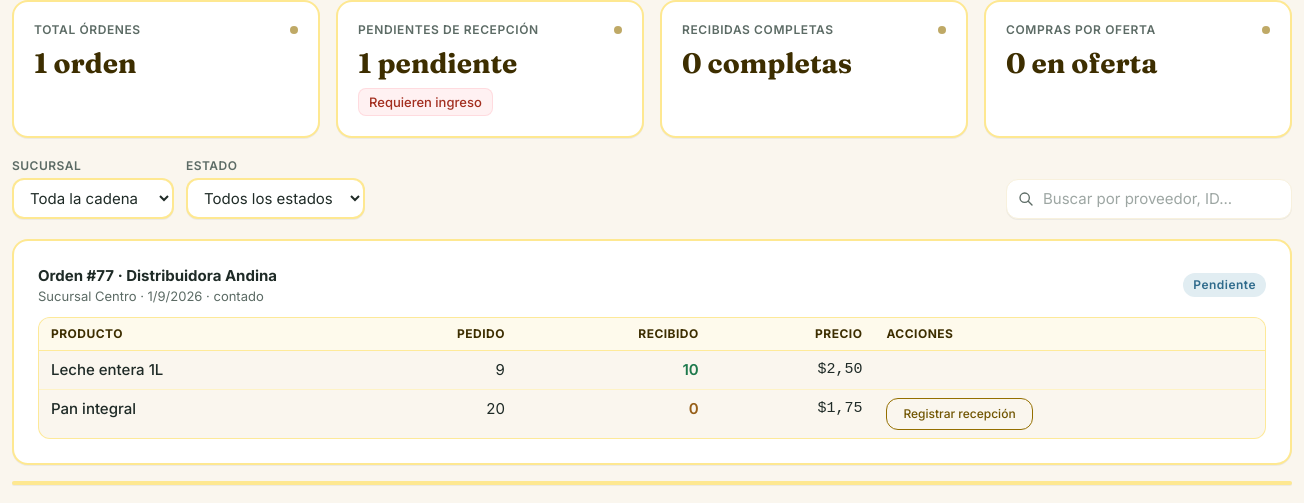
Test: Ordenes › registra una recepción real y refleja la orden actualizada en la lista sin volver a pedirla al backend
Expected: the text "Pan integral" is shown, [39,390,352,438]
Click the button "Registrar recepción" at (960, 414), box [886,398,1033,430]
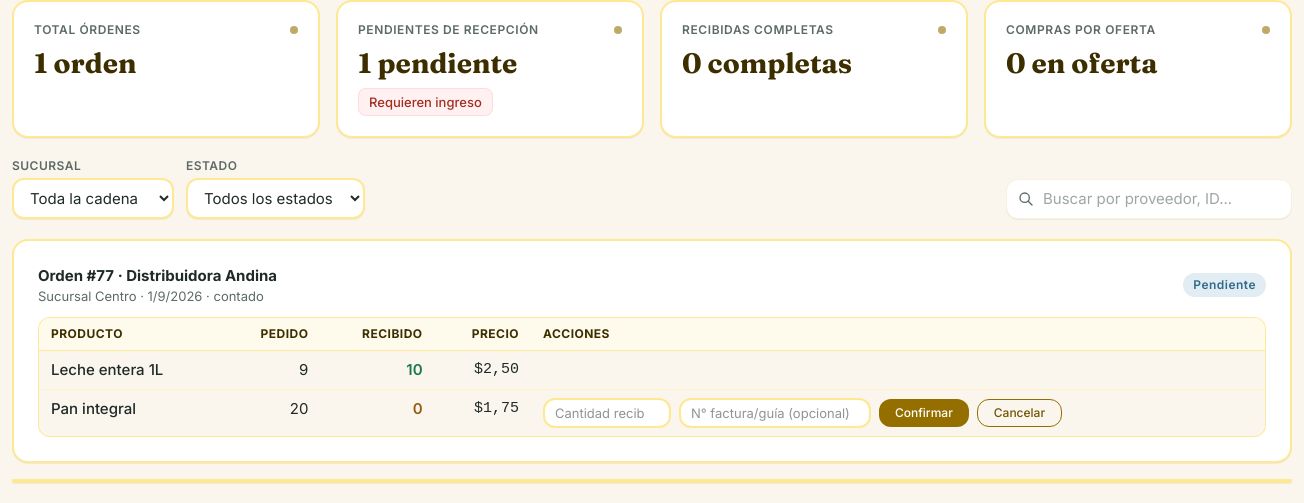
Type "20" into the number field with placeholder "Cantidad recibida" at (607, 413), box [543,398,671,428]
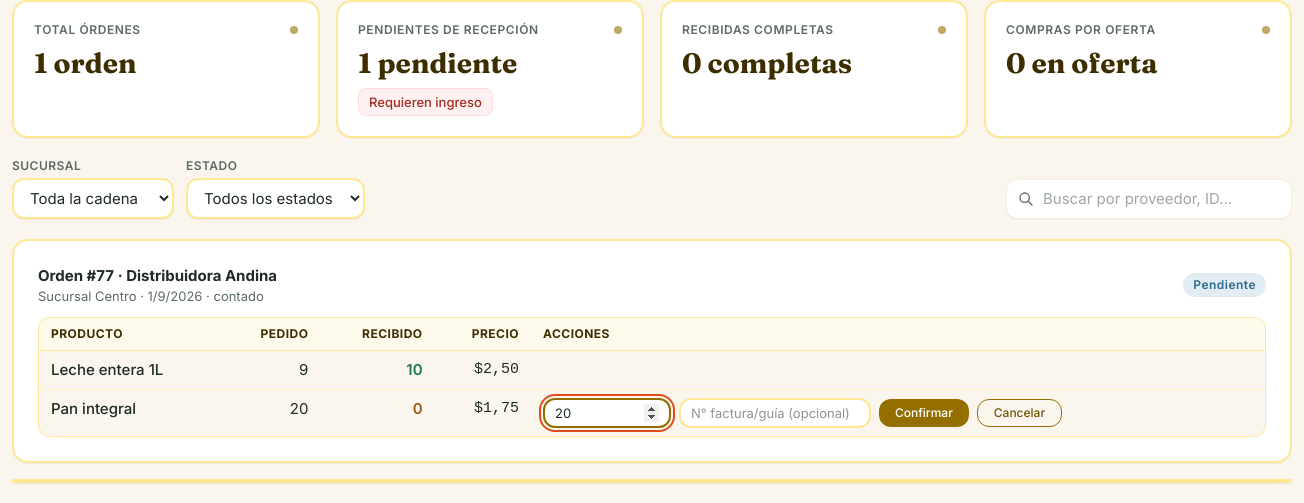
Type "FAC-001" into the field with placeholder "N° factura/guía (opcional)" at (775, 413), box [679,398,871,428]
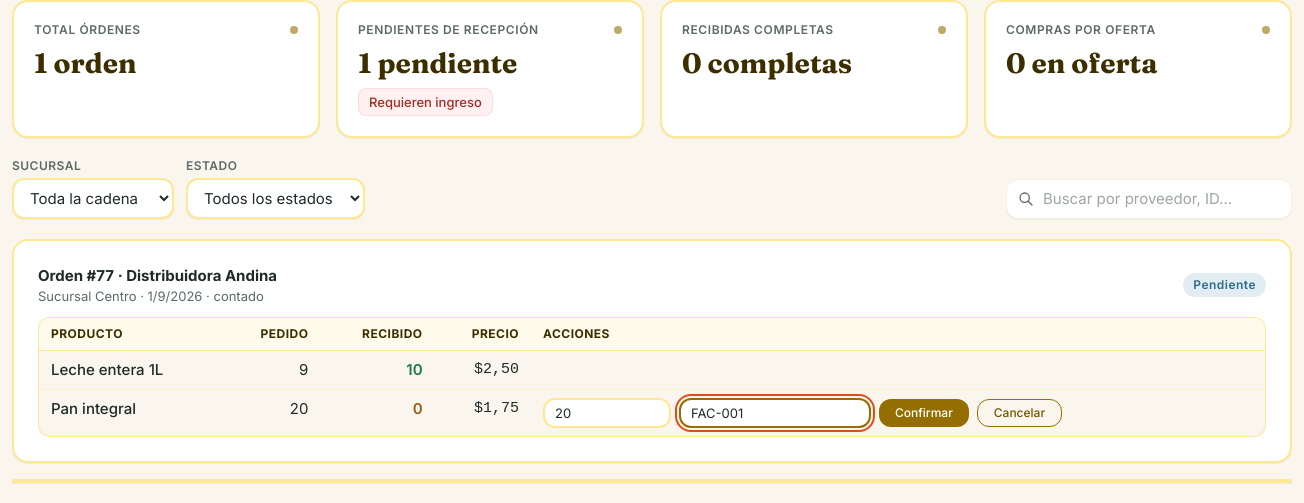
Click the button "Confirmar" at (924, 413), box [879,399,969,427]
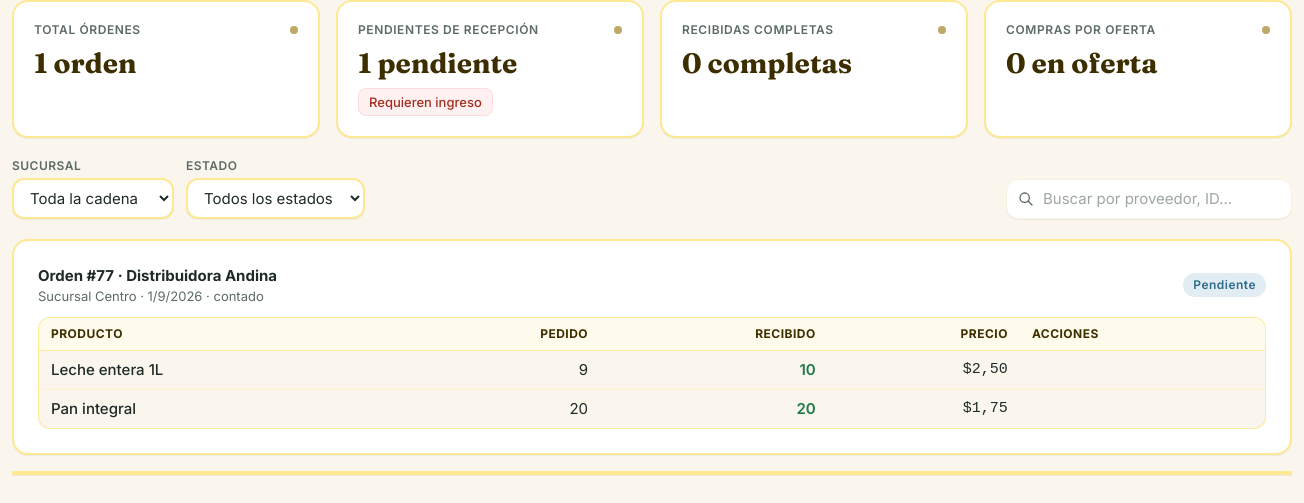
Expected: the button "Registrar recepción" is not shown
Now the text "20" is shown, box [796,399,816,418]
